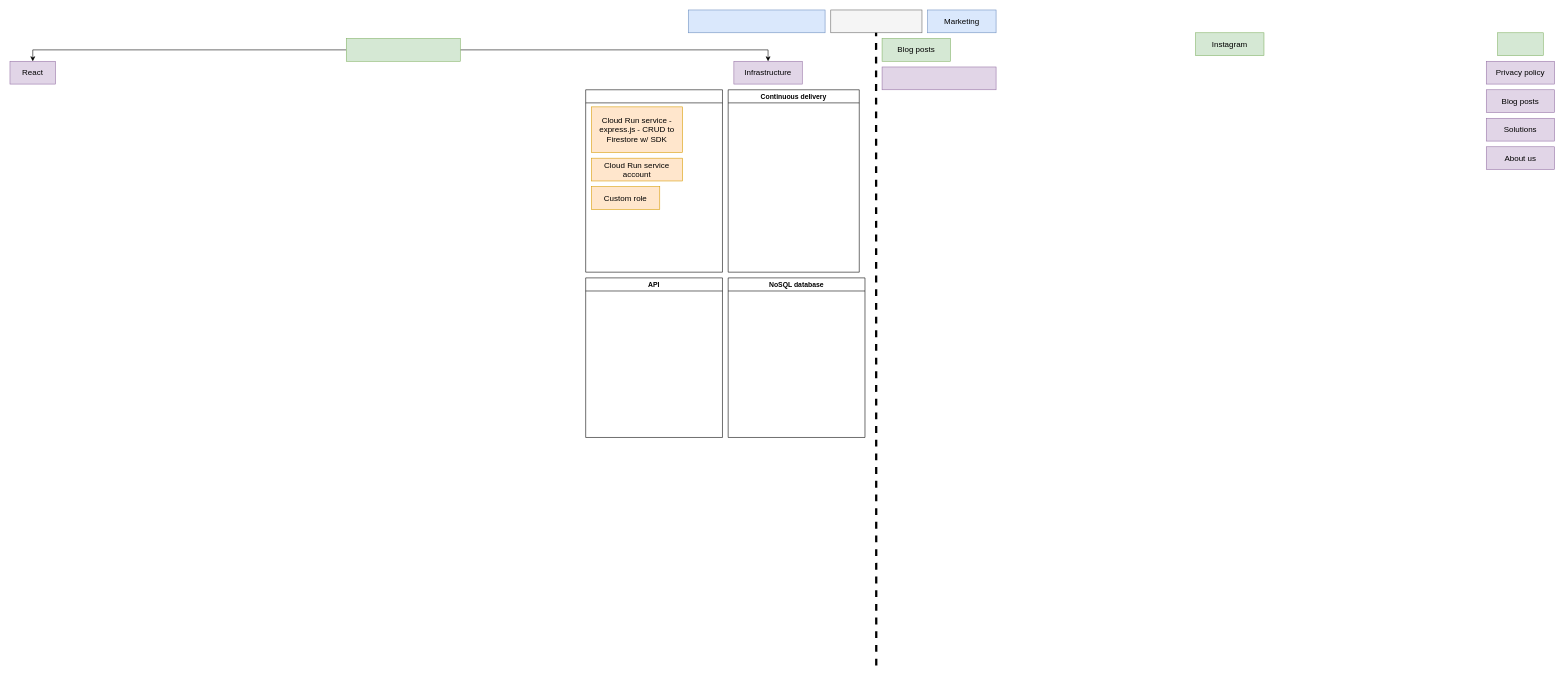
Some shapes in this 1565 by 677 pixel diagram are drawn without their labels. The box of each missing label's shape, as (x1, y1, x2, y2) in pixels:
App development: (688, 9, 825, 33)
Creating an API with Google Cloud and Terraform: (882, 66, 996, 90)
Firestore CRUD app: (346, 38, 460, 61)
Microservice: (585, 89, 722, 272)
somtum.io: (830, 9, 922, 33)
Website: (1497, 32, 1543, 56)
